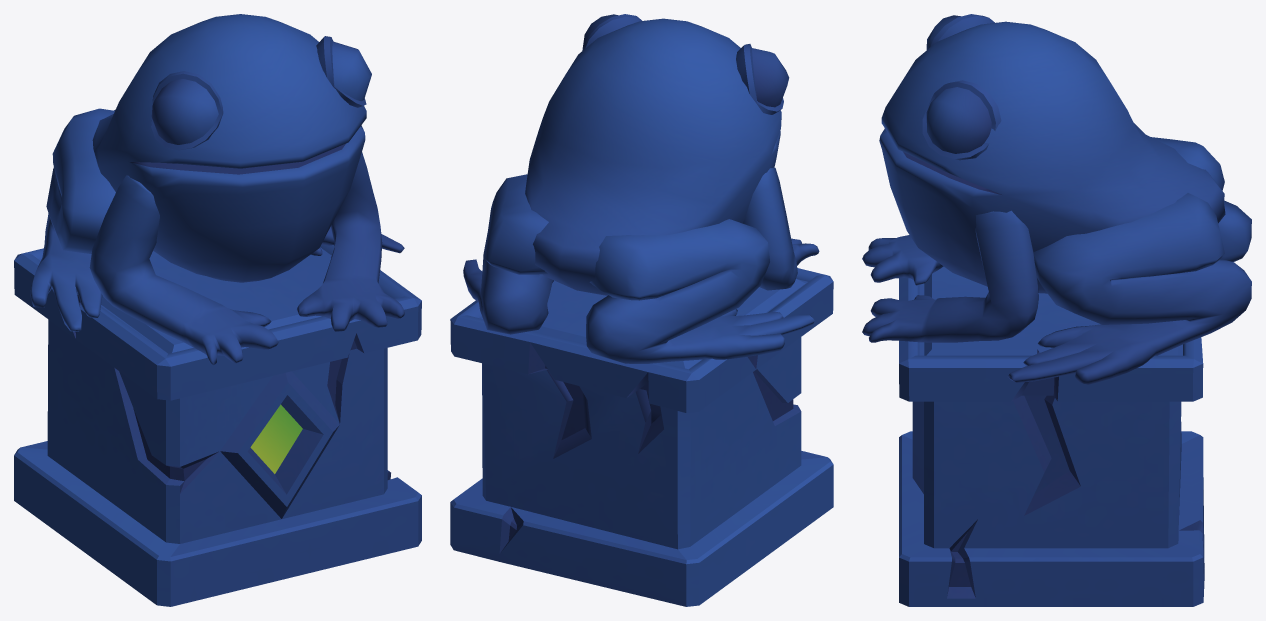
Rendered from laserExtraktor.fbx.
3 renders of one model, left to right at view 1: azimuth 30°, elevation 25°; view 2: azimuth 150°, elevation 25°; view 3: azimuth 270°, elevation 25°, orthographic. The views are drawn at different scales.
Visible parts, largest first — view 1: polySurface211; view 2: polySurface211; view 3: polySurface211.
Boxes of the visible parts, x1,y1,x2,y2 form: polySurface211: (14,14,421,606); polySurface211: (450,14,833,606); polySurface211: (862,14,1251,606).
Size of the model in its own units: 97.53 by 141 by 97.76.
